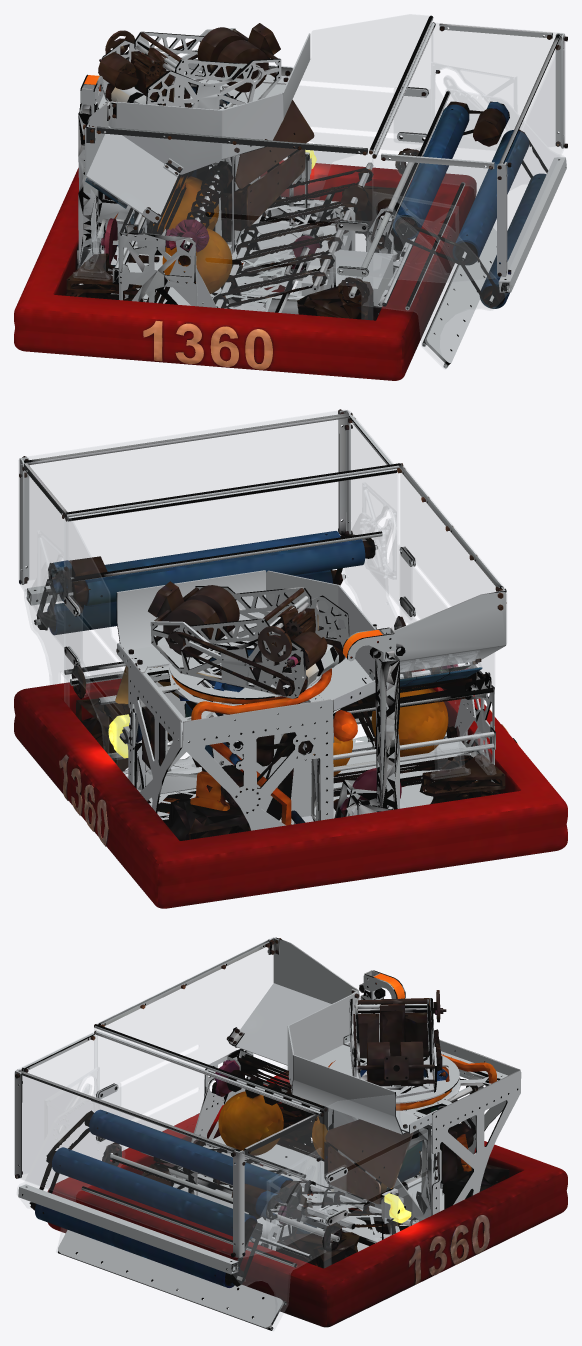
Rendered from robot.glb.
The picture shows the model from 3 angles, top to bottom: view 1: azimuth 30°, elevation 25°; view 2: azimuth 150°, elevation 25°; view 3: azimuth 270°, elevation 25°; orthographic projection. The views are drawn at different scales.
Visible parts, largest first — view 1: NEW_robot_root__mesh, NEW_robot_root__glass_robot_polycarbonate.001; view 2: NEW_robot_root__mesh, NEW_robot_root__glass_robot_polycarbonate.001; view 3: NEW_robot_root__mesh, NEW_robot_root__glass_robot_polycarbonate.001.
Boxes of the visible parts, x1,y1,x2,y2 form: NEW_robot_root__mesh: (14,15,567,380); NEW_robot_root__glass_robot_polycarbonate.001: (73,14,565,369); NEW_robot_root__mesh: (14,409,567,908); NEW_robot_root__glass_robot_polycarbonate.001: (18,410,506,816); NEW_robot_root__mesh: (15,937,567,1330); NEW_robot_root__glass_robot_polycarbonate.001: (14,938,439,1330).
Size of the model in its own units: 1.3 by 0.5543 by 1.27.
Materials: 4 (2 with a texture image).
